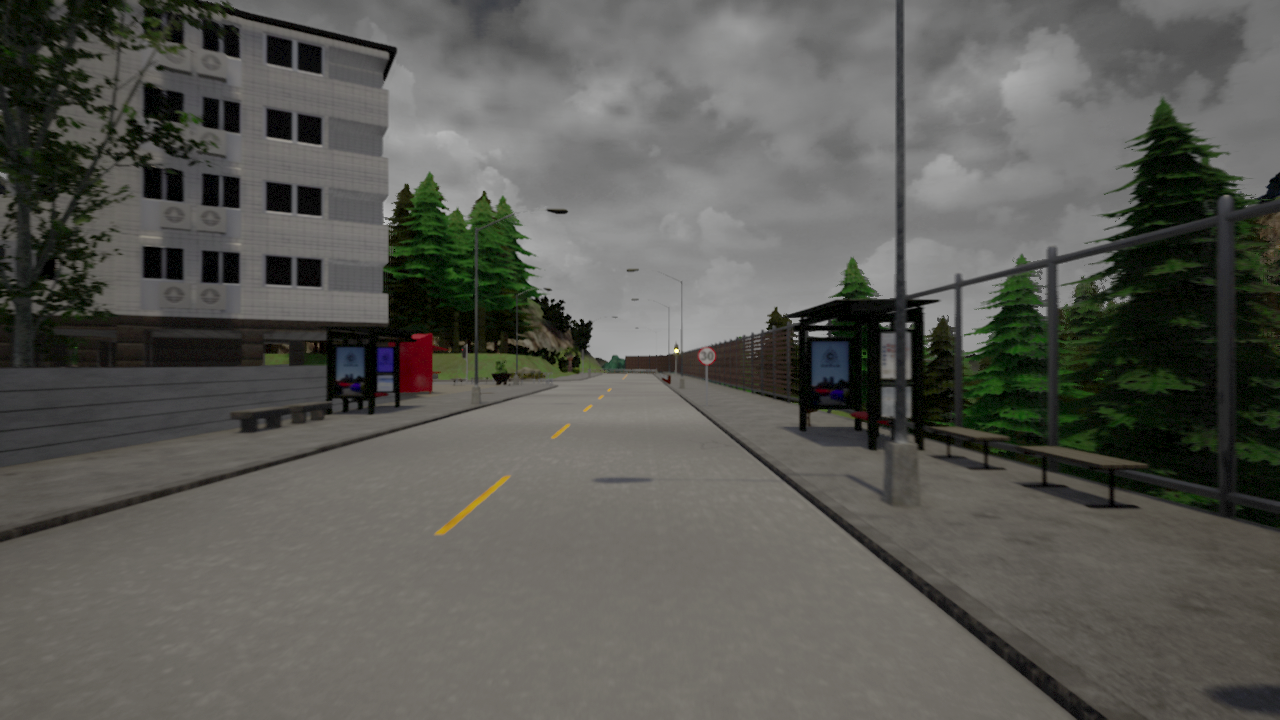yellow: (673, 342, 679, 356)
